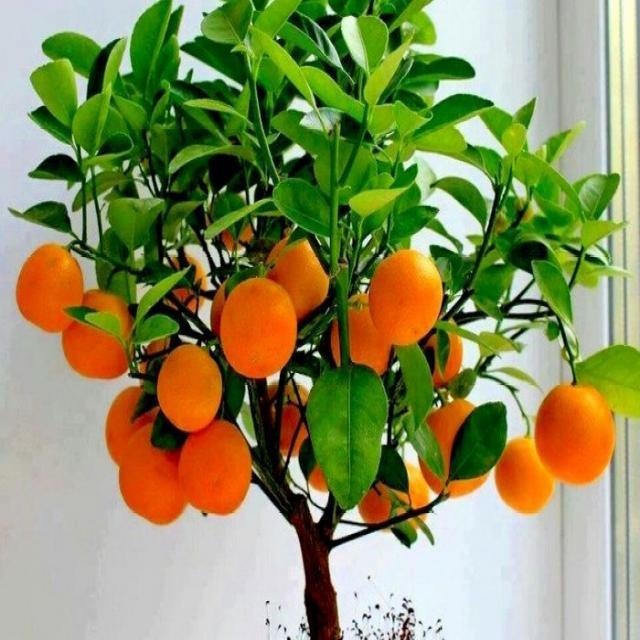Jeruk Sudah Matang: (115, 424, 195, 528), (536, 381, 615, 485), (218, 277, 297, 377), (366, 246, 442, 344), (178, 422, 252, 518), (59, 288, 137, 378), (16, 242, 88, 330), (152, 342, 222, 431), (496, 438, 554, 517)
